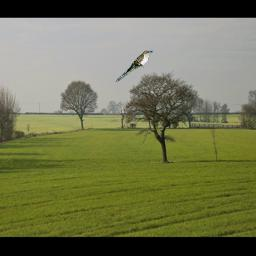Cuckoo: (115, 50, 154, 83)
